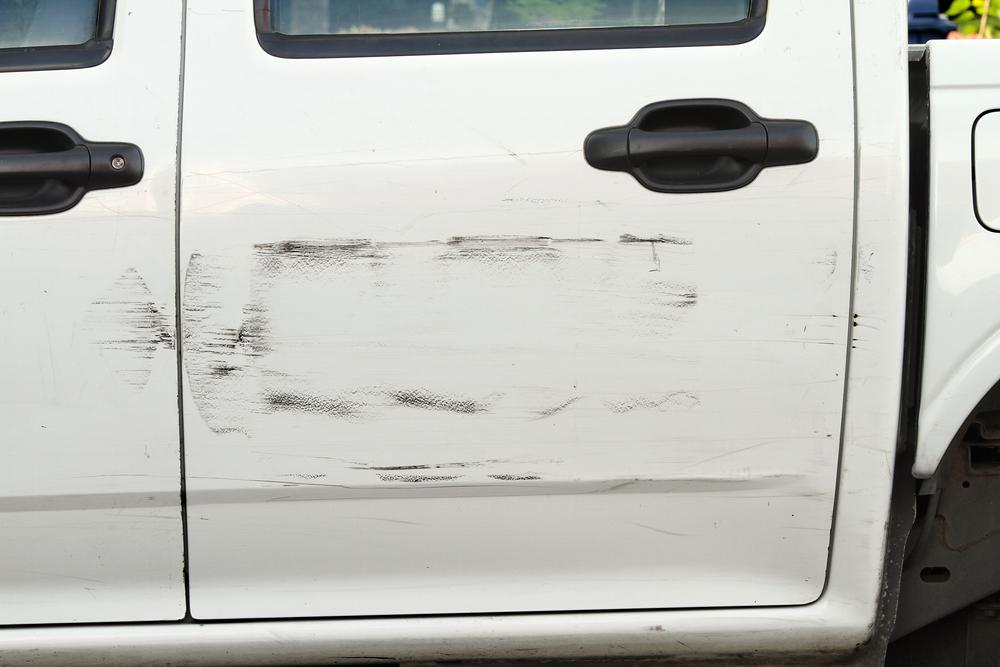scratch: (180, 230, 715, 496), (74, 260, 173, 395)
